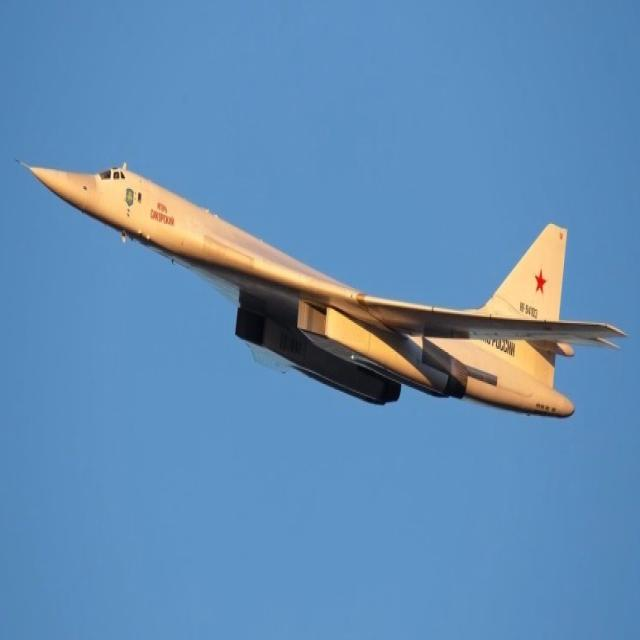Tu160: (9, 85, 628, 515)
